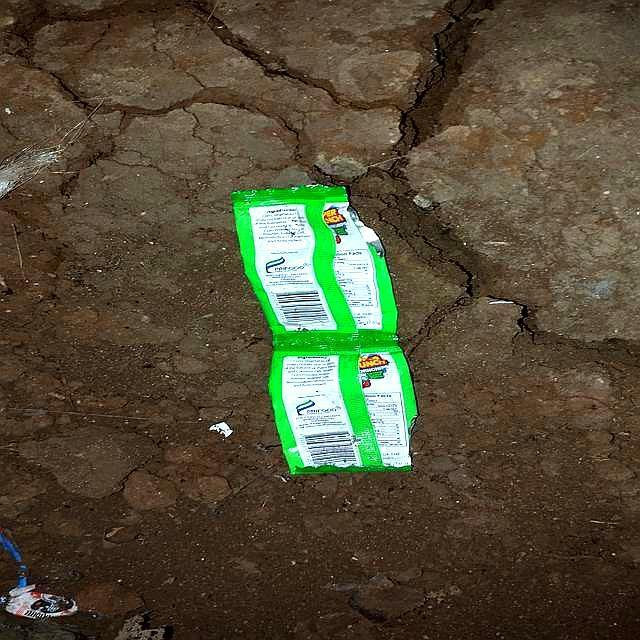Non-biodegradable: (230, 182, 421, 477)
